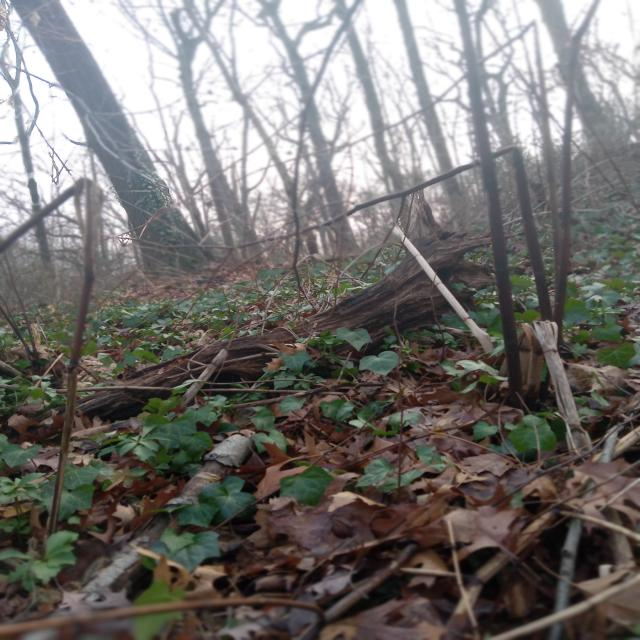knotweed-stems: (485, 139, 571, 400)
tree trunks: (67, 192, 515, 428), (9, 0, 215, 281)
